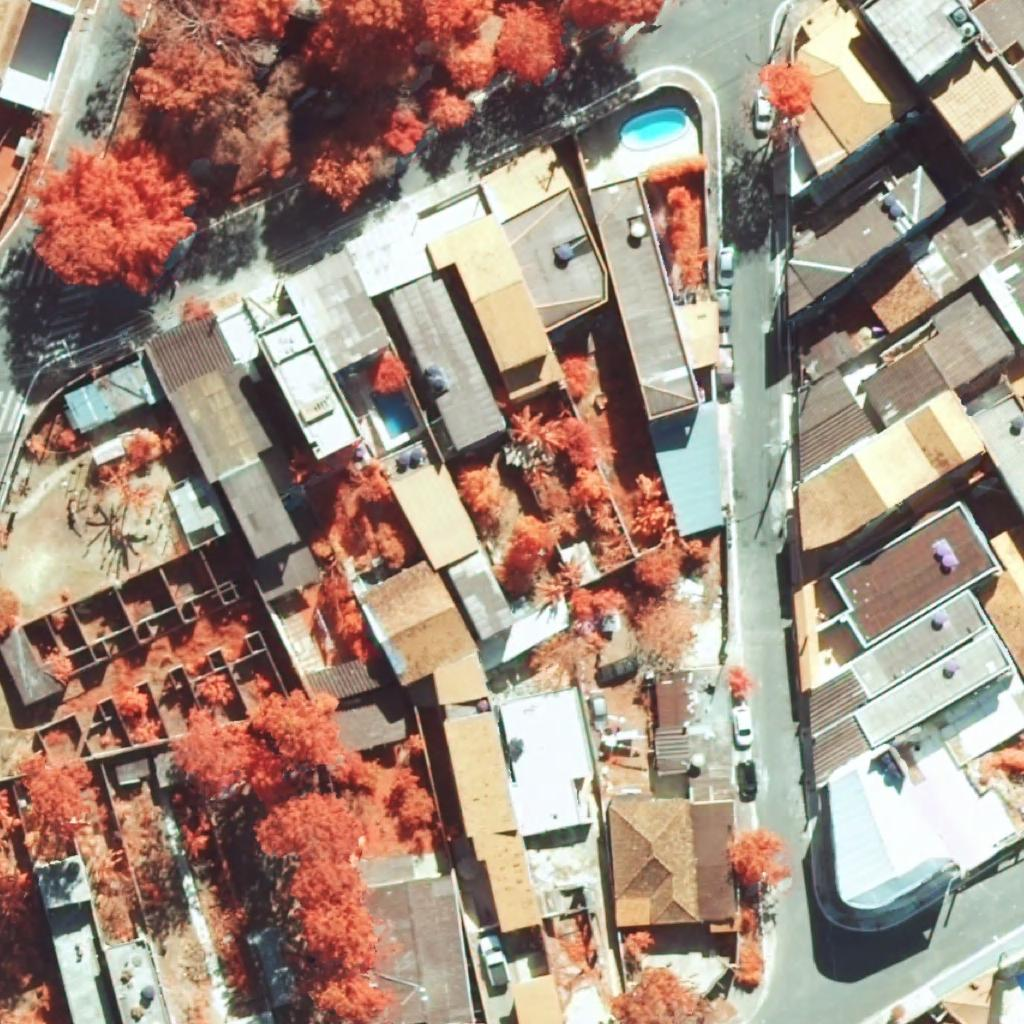pool: (370, 391, 419, 439), (623, 110, 686, 145)
